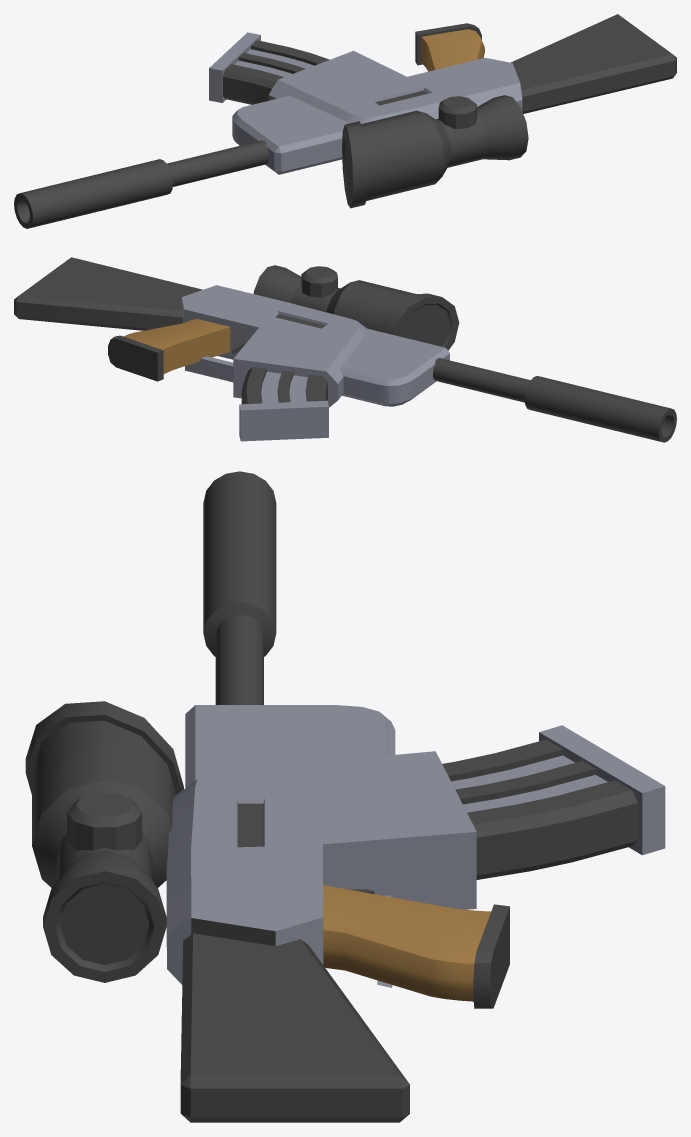
File: marksman.glb
The picture shows the model from 3 angles, top to bottom: view 1: azimuth 30°, elevation 25°; view 2: azimuth 150°, elevation 25°; view 3: azimuth 270°, elevation 25°; orthographic projection. The views are drawn at different scales.
Visible parts, largest first — view 1: Cube282_1, Cube282, Cube282_2; view 2: Cube282_1, Cube282, Cube282_2; view 3: Cube282_1, Cube282, Cube282_2.
Part boxes in pixels (x1,y1,x2,y2): Cube282_1: [14, 14, 676, 228]; Cube282: [209, 32, 522, 174]; Cube282_2: [421, 29, 484, 71]; Cube282_1: [14, 257, 676, 442]; Cube282: [181, 285, 449, 441]; Cube282_2: [124, 319, 230, 373]; Cube282_1: [25, 471, 637, 1122]; Cube282: [166, 705, 665, 987]; Cube282_2: [323, 885, 490, 1001].
Bounding box in the file's own units: 1.89 × 0.2117 × 0.855.
